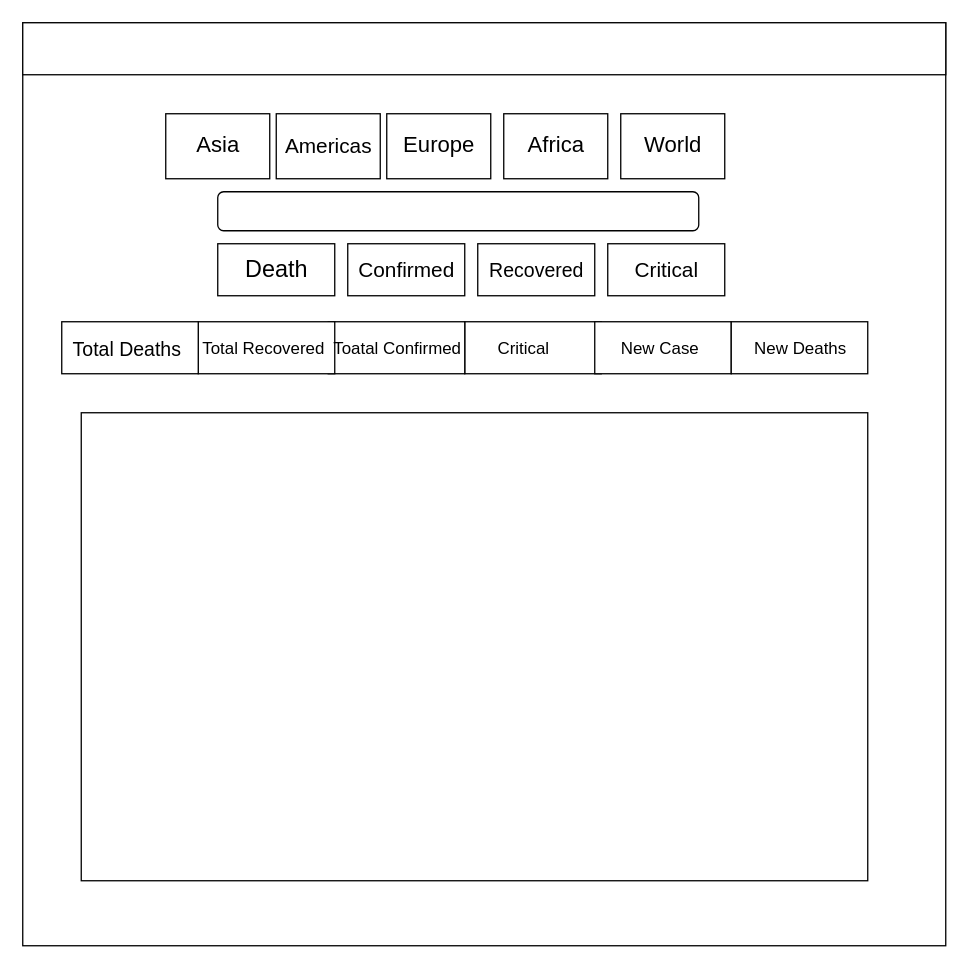
Some shapes in this 968 by 968 pixel diagram are drawn without their labels. Here are the shapes that lost their labels. From the top down, the centre of each, then its label:
[483,48]: Title - COVID APP
[457,210]: Drop-Down menu
[474,646]: Chart
